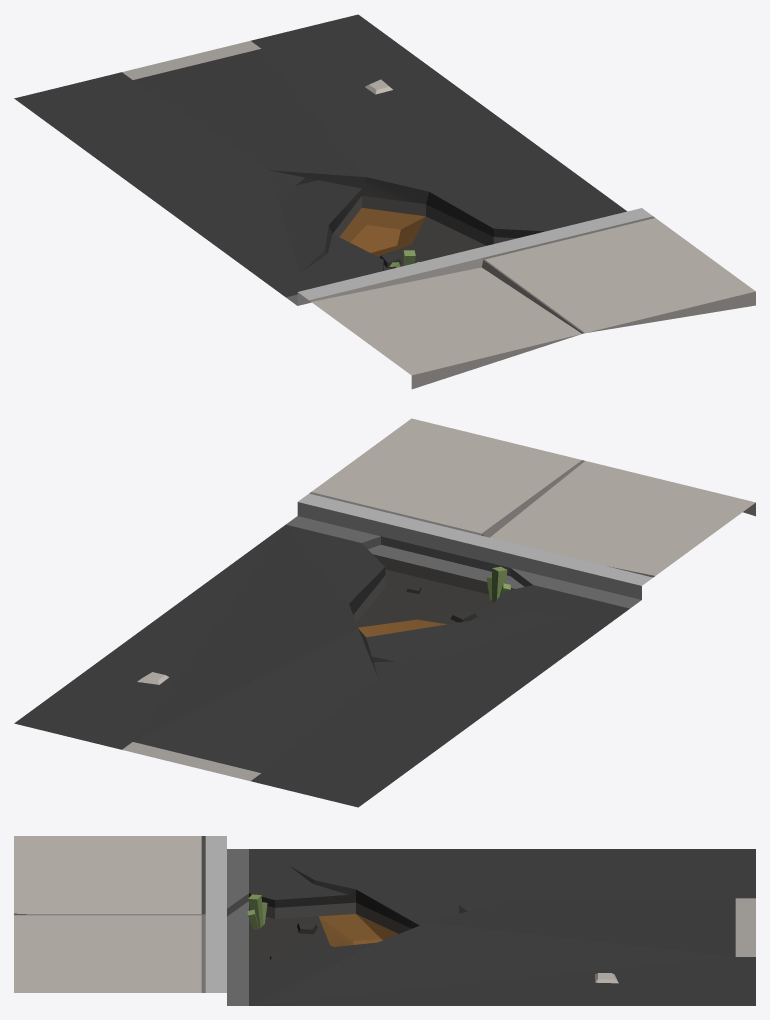
Rendered from SA_Env_Road_Straight_Damaged_01.gltf.
3 views of the same model, one above another, from view 1: azimuth 30°, elevation 25°; view 2: azimuth 150°, elevation 25°; view 3: azimuth 270°, elevation 25° (orthographic). The views are drawn at different scales.
Parts seen in each view (by area): view 1: SA_Env_Road_Straight_Damaged_01; view 2: SA_Env_Road_Straight_Damaged_01; view 3: SA_Env_Road_Straight_Damaged_01.
Boxes of the visible parts, bbox=[...] form: SA_Env_Road_Straight_Damaged_01: bbox=[14, 14, 755, 389]; SA_Env_Road_Straight_Damaged_01: bbox=[14, 418, 755, 807]; SA_Env_Road_Straight_Damaged_01: bbox=[14, 836, 755, 1005].
Size of the model in its own units: 5 by 0.6221 by 10.
Materials: 1 (1 with a texture image).
